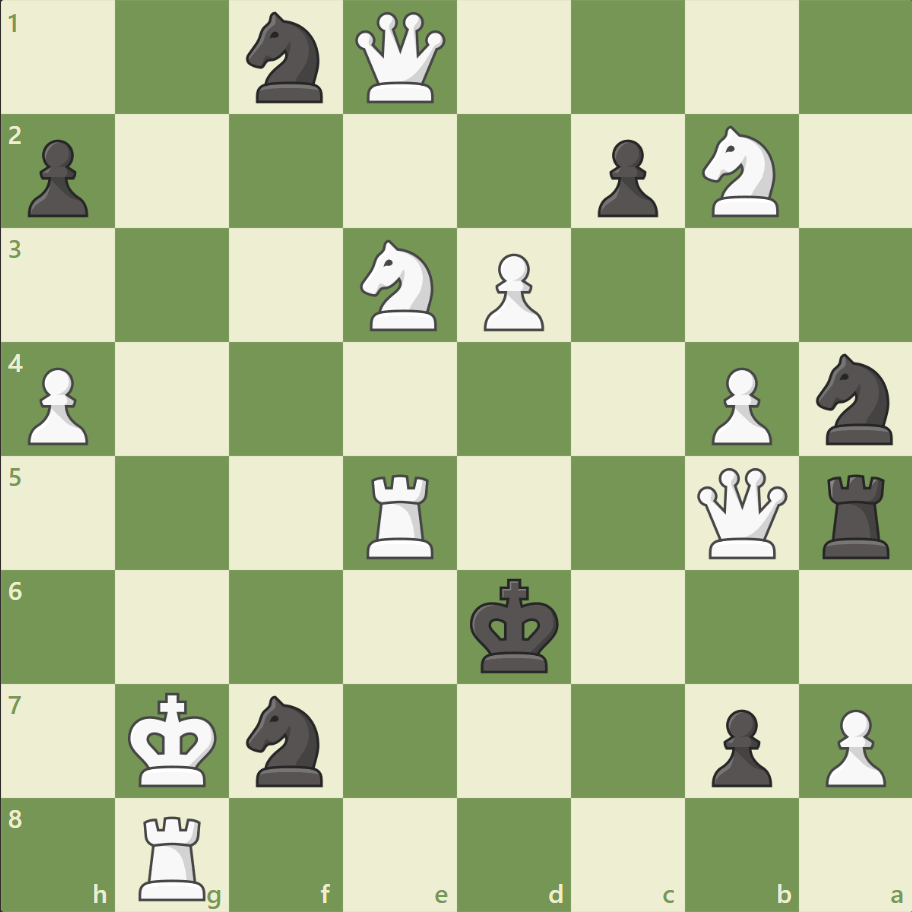K: (124, 685, 224, 793)
N: (351, 234, 449, 337), (692, 121, 789, 223)
P: (701, 359, 776, 450), (20, 359, 95, 450), (474, 246, 549, 337), (815, 700, 889, 791)
Q: (691, 463, 790, 562), (351, 9, 450, 108)
R: (133, 806, 215, 904), (360, 466, 442, 563)
k: (465, 571, 565, 679)
n: (238, 688, 335, 791), (238, 7, 335, 110), (806, 348, 903, 450)
p: (701, 700, 776, 791), (20, 132, 95, 223), (588, 132, 662, 223)
r: (814, 466, 897, 563)
